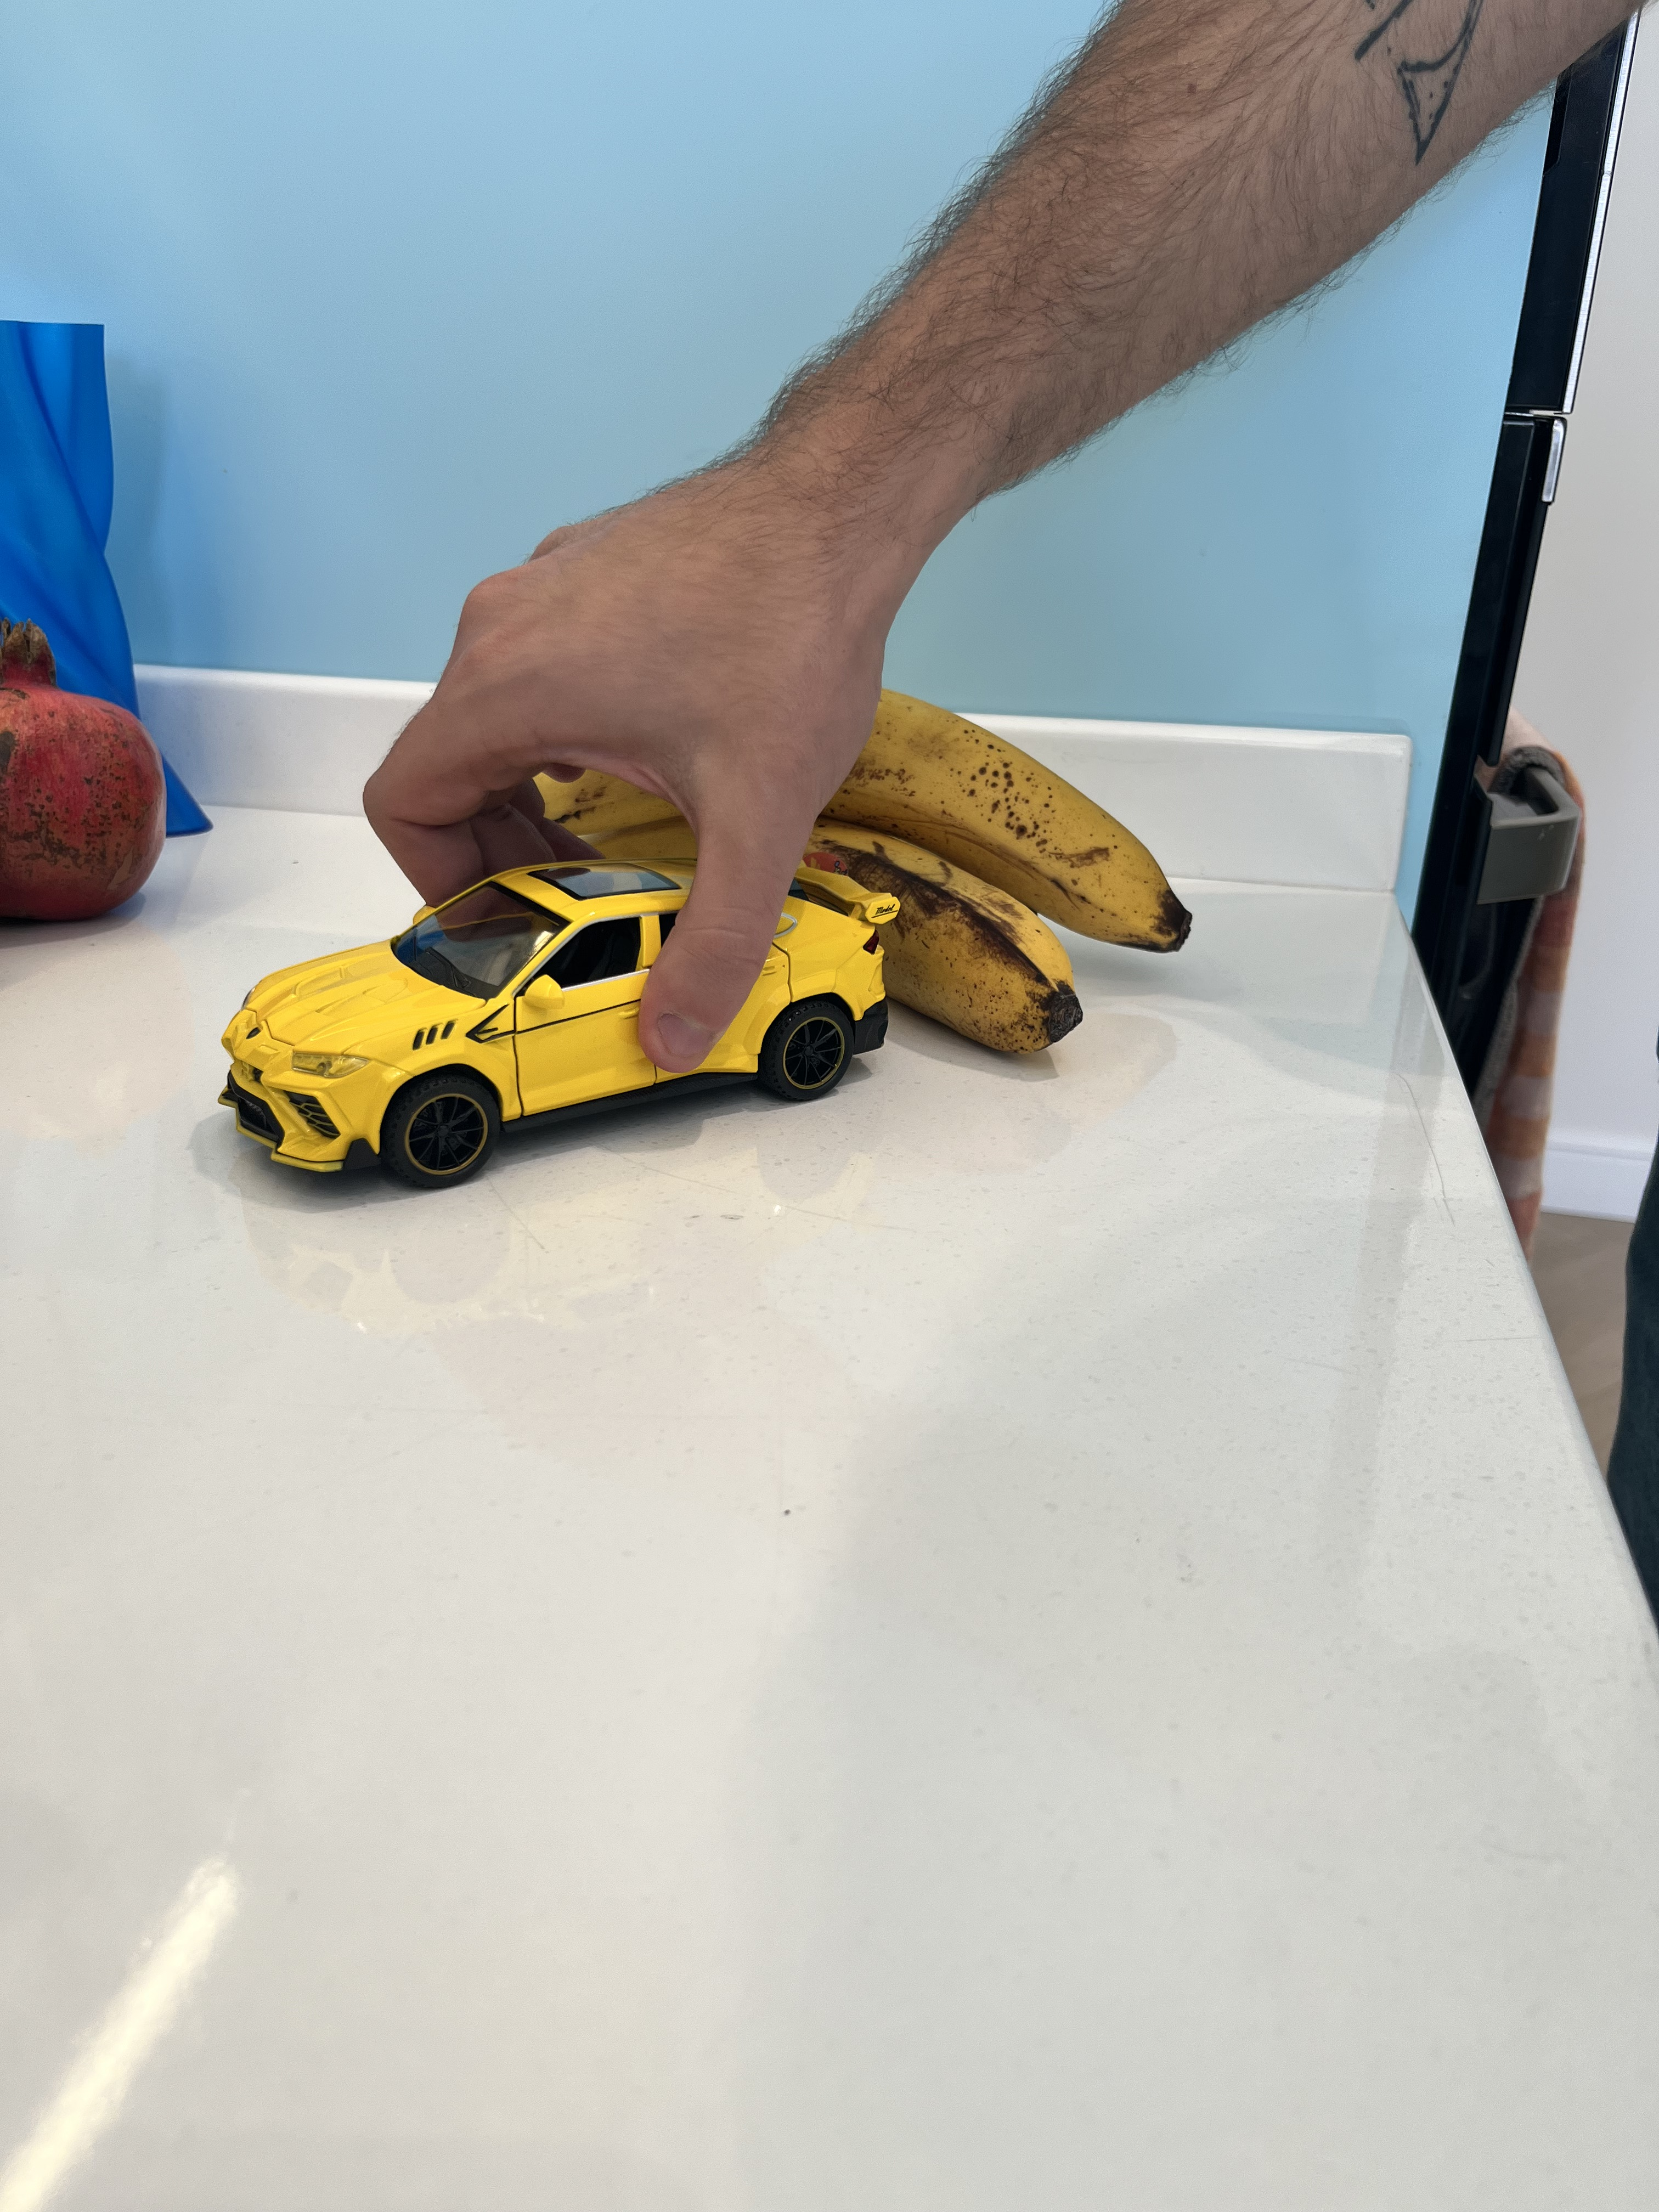lambo: (207, 840, 889, 1188)
